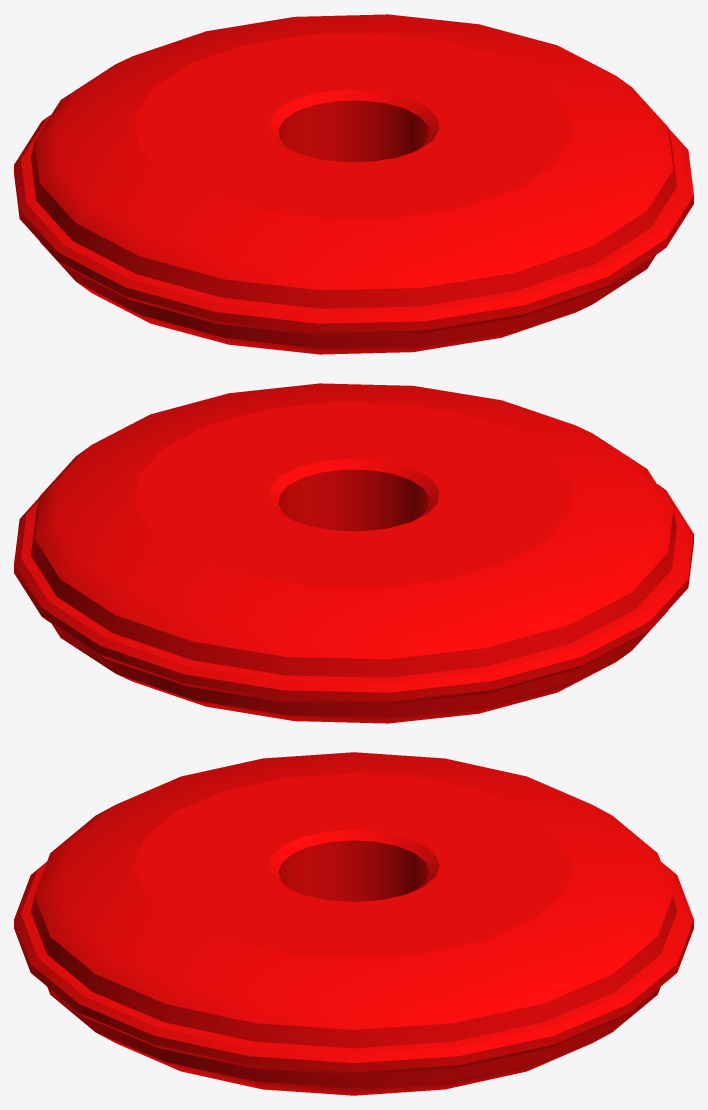
Rendered from Ring 3.obj.
3 views of the same model, one above another, from view 1: azimuth 30°, elevation 25°; view 2: azimuth 150°, elevation 25°; view 3: azimuth 270°, elevation 25° (orthographic).
Visible parts, largest first — view 1: polySurface11 polySurface6; view 2: polySurface11 polySurface6; view 3: polySurface11 polySurface6.
Boxes of the visible parts, box(x1,y1,x2,y2) form: polySurface11 polySurface6: box(14, 14, 693, 354); polySurface11 polySurface6: box(14, 383, 693, 723); polySurface11 polySurface6: box(14, 752, 693, 1095).
Size of the model in its own units: 2.94 by 0.5548 by 2.94.
